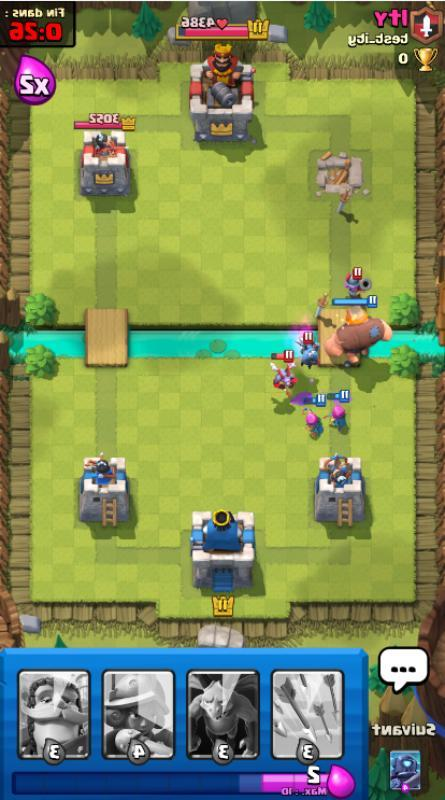archere: (300, 393, 327, 441), (324, 389, 352, 434)
gargouille: (269, 350, 299, 391), (295, 331, 320, 369)
geant: (323, 295, 393, 365)
mousquetaire: (345, 266, 374, 300)
